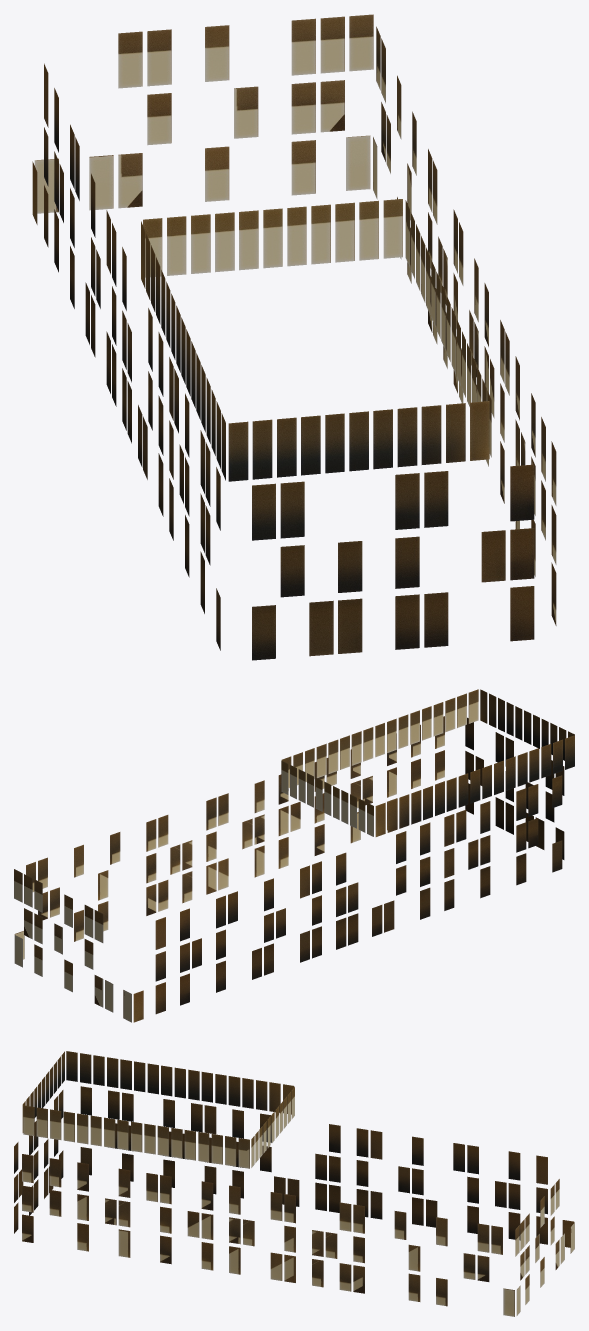
File: Building_03_Glass.fbx
The picture shows the model from 3 angles, top to bottom: view 1: azimuth 30°, elevation 25°; view 2: azimuth 150°, elevation 25°; view 3: azimuth 270°, elevation 25°; orthographic projection. The views are drawn at different scales.
Visible parts, largest first — view 1: Building_03_Glass; view 2: Building_03_Glass; view 3: Building_03_Glass.
Part boxes in pixels (left/top/right/bottom): Building_03_Glass: left=32, top=14, right=556, bottom=660; Building_03_Glass: left=14, top=689, right=574, bottom=1022; Building_03_Glass: left=14, top=1051, right=574, bottom=1316.
Bounding box in the file's own units: 29.97 × 11.57 × 48.79.
1 material, 1 textured.
